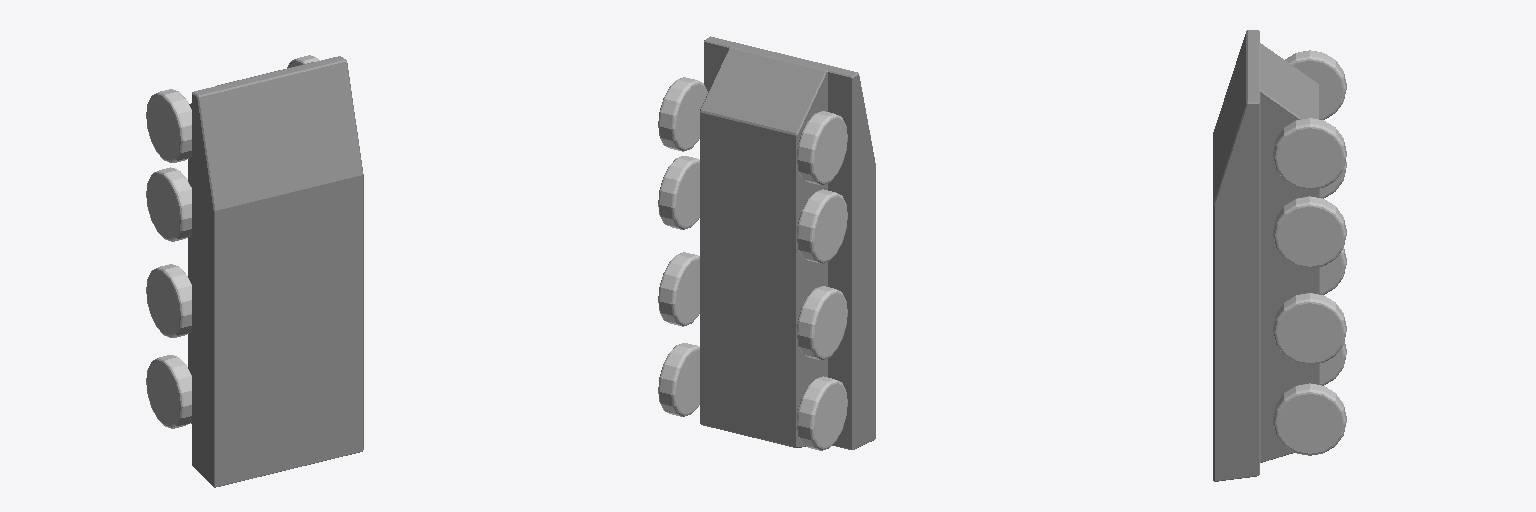
Rendered from VBCI.obj.
The picture shows the model from 3 angles: view 1: azimuth 30°, elevation 25°; view 2: azimuth 150°, elevation 25°; view 3: azimuth 270°, elevation 25°; orthographic projection.
Parts seen in each view (by area): view 1: VBCI_Cube, Cylinder.007_Cylinder, Cylinder.005_Cylinder, Cylinder.006_Cylinder, Cylinder.004_Cylinder; view 2: VBCI_Cube, Cylinder.005_Cylinder, Cylinder.007_Cylinder, Cylinder.004_Cylinder, Cylinder.006_Cylinder, Cylinder.003_Cylinder, Cylinder.000_Cylinder, Cylinder.002_Cylinder, Cylinder.001_Cylinder; view 3: VBCI_Cube, Cylinder.002_Cylinder, Cylinder.000_Cylinder, Cylinder.001_Cylinder, Cylinder.003_Cylinder, Cylinder.007_Cylinder, Cylinder.005_Cylinder, Cylinder.004_Cylinder.
Boxes of the visible parts, x1,y1,x2,y2 form: VBCI_Cube: [188, 56, 363, 487]; Cylinder.007_Cylinder: [146, 89, 191, 162]; Cylinder.005_Cylinder: [146, 264, 191, 337]; Cylinder.006_Cylinder: [146, 167, 191, 241]; Cylinder.004_Cylinder: [146, 355, 191, 428]; VBCI_Cube: [700, 36, 875, 449]; Cylinder.005_Cylinder: [797, 286, 847, 359]; Cylinder.007_Cylinder: [797, 111, 847, 184]; Cylinder.004_Cylinder: [796, 376, 847, 450]; Cylinder.006_Cylinder: [797, 189, 847, 263]; Cylinder.003_Cylinder: [658, 77, 707, 151]; Cylinder.000_Cylinder: [658, 156, 699, 229]; Cylinder.002_Cylinder: [658, 343, 699, 416]; Cylinder.001_Cylinder: [658, 252, 699, 326]; VBCI_Cube: [1213, 30, 1319, 481]; Cylinder.002_Cylinder: [1273, 383, 1346, 455]; Cylinder.000_Cylinder: [1273, 196, 1346, 268]; Cylinder.001_Cylinder: [1273, 293, 1346, 364]; Cylinder.003_Cylinder: [1273, 118, 1346, 189]; Cylinder.007_Cylinder: [1285, 50, 1346, 119]; Cylinder.005_Cylinder: [1320, 248, 1346, 294]; Cylinder.004_Cylinder: [1320, 341, 1346, 385].
Size of the model in its own units: 2.7 by 6.3 by 2.